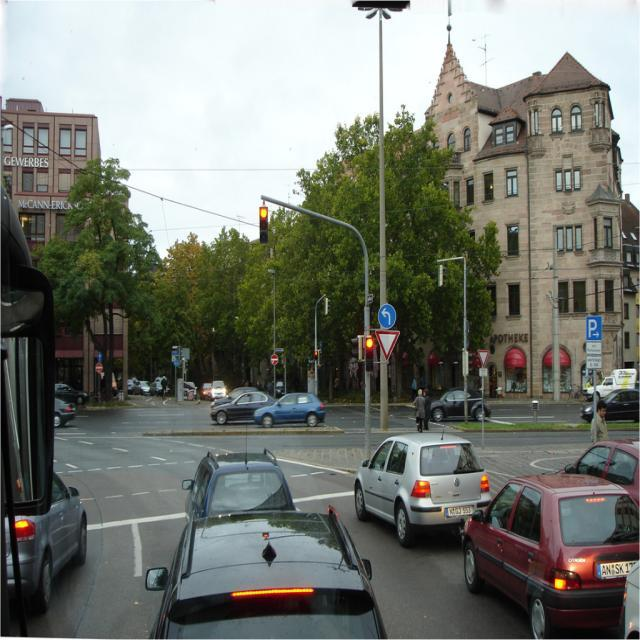road_sign: (374, 329, 400, 359)
traffic light: (259, 208, 269, 241), (365, 336, 374, 372)
